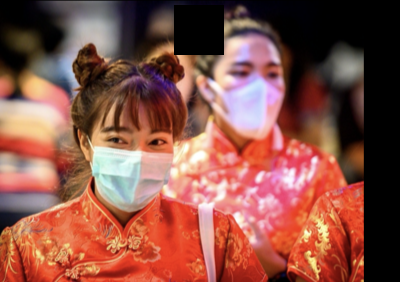with_mask: (87, 114, 172, 212), (211, 52, 287, 140)
